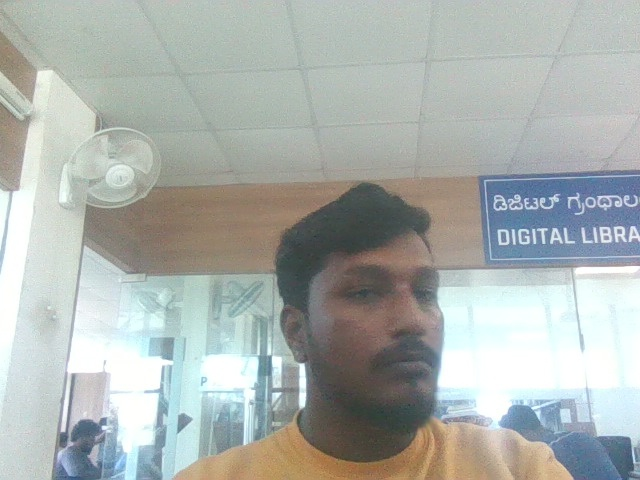real: (287, 176, 459, 420)
